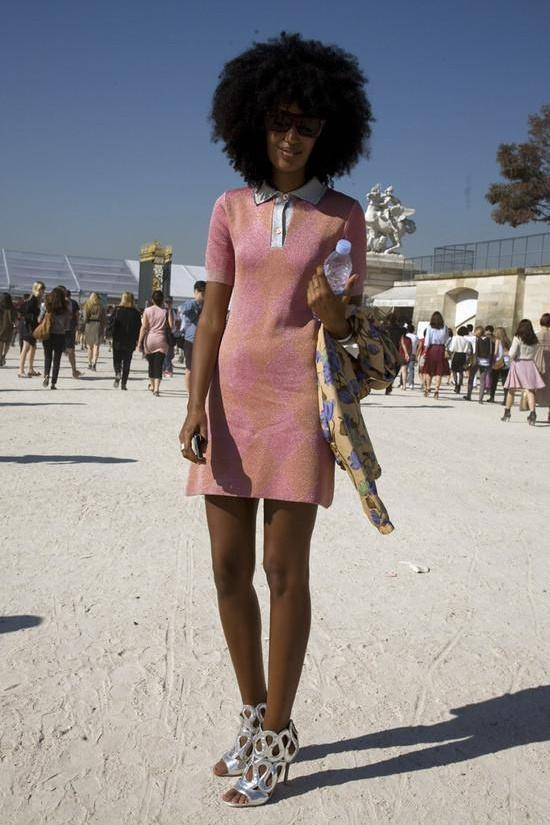dress: (186, 177, 366, 510)
